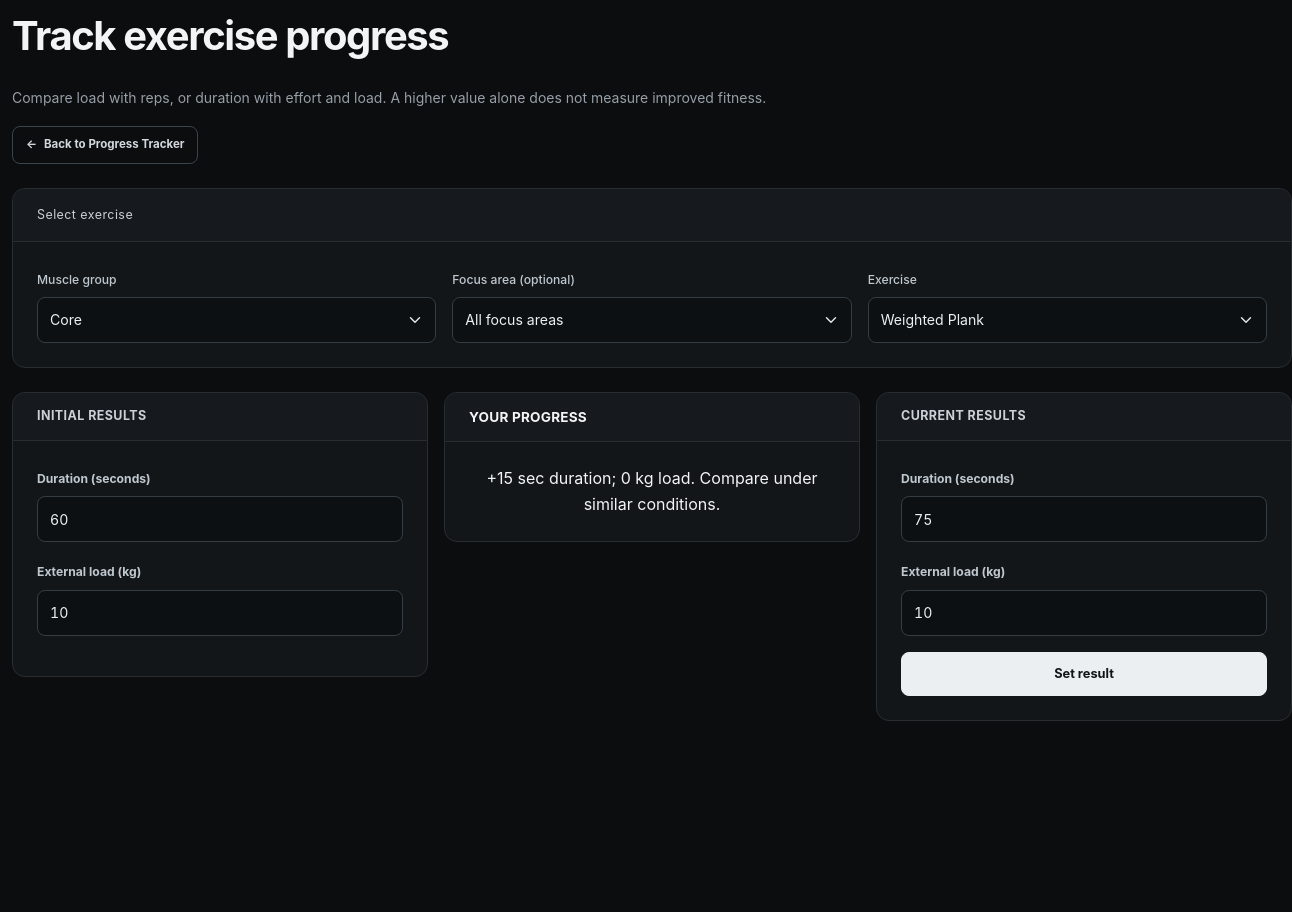
it: loads the saved results, compares them while typing and saves both columns
This screenshot has width=1292, height=912.
Expected: the text "+15 sec duration; 0 kg load. Compare under similar conditions." is shown, [486,468,818,514]
Step 1. Replace the text in the number field labelled "External load (kg)" below "Current results" with "12.5" → (1084, 613), box [901,590,1267,636]
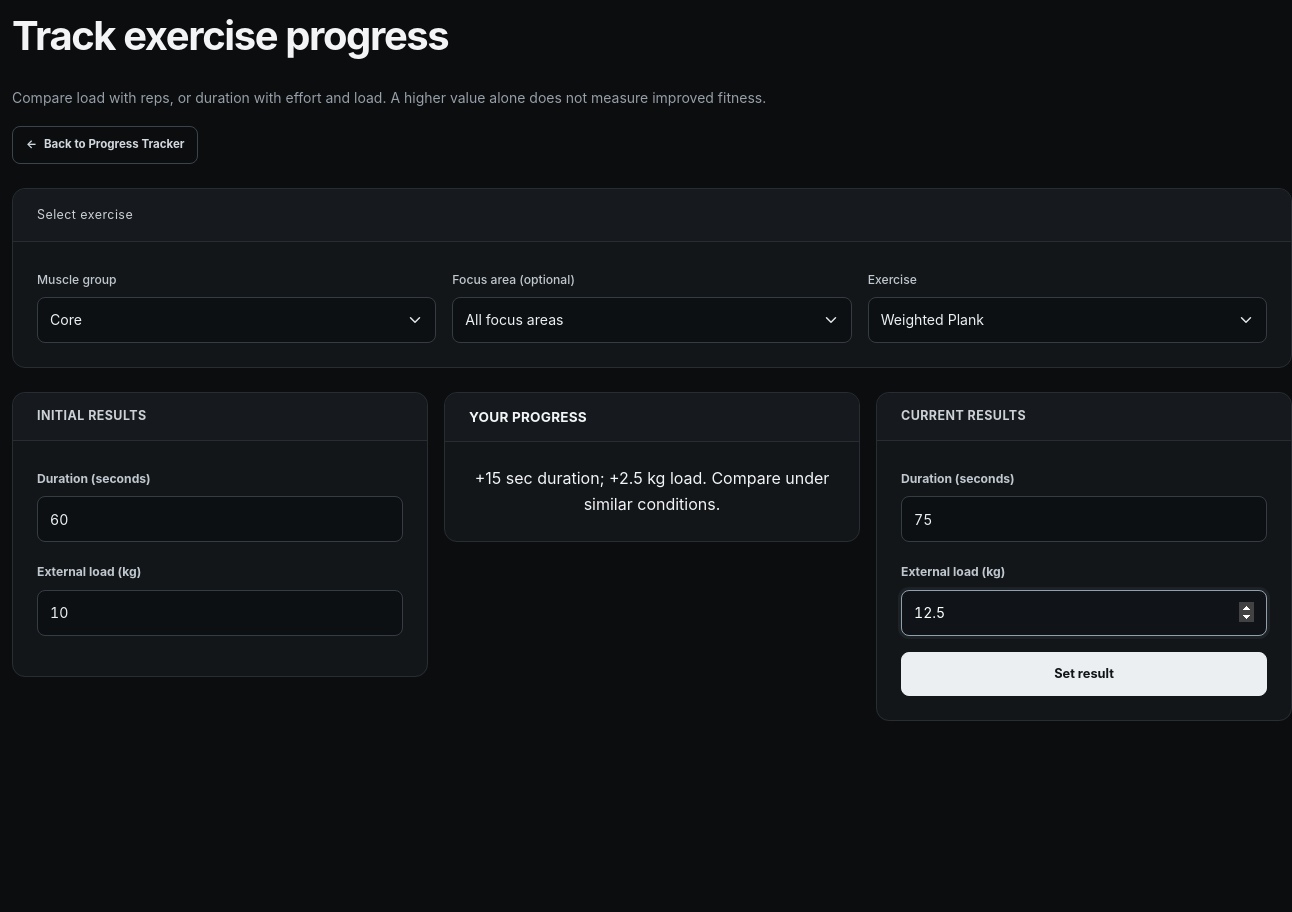
Expected: the text "+15 sec duration; +2.5 kg load. Compare under similar conditions." is shown, [475,468,829,514]
Step 2. Click the button "Set result" → (1084, 674), box [901,652,1267,696]
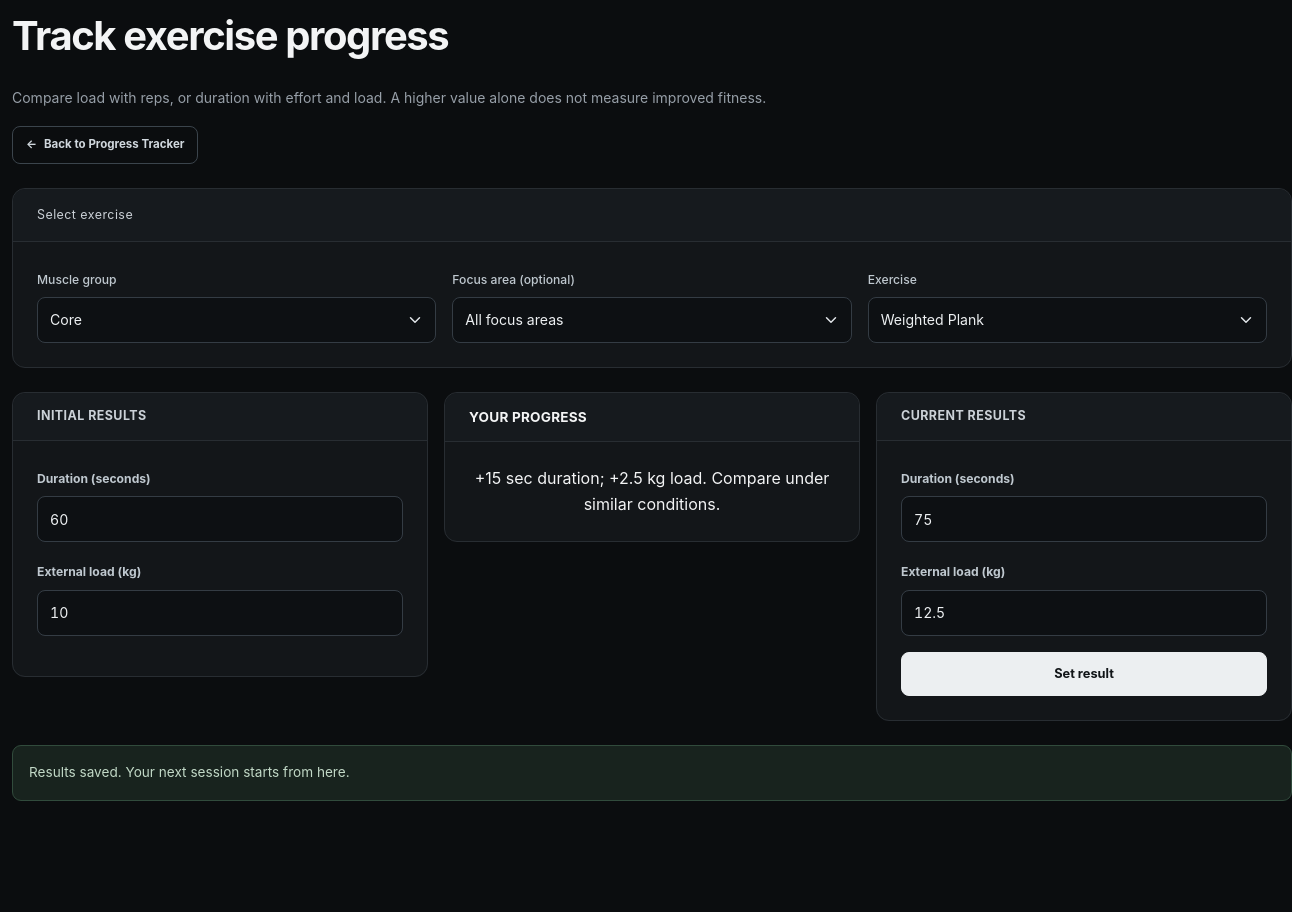
Expected: the text "Results saved. Your next session starts from here." is shown, [12,745,1291,801]
